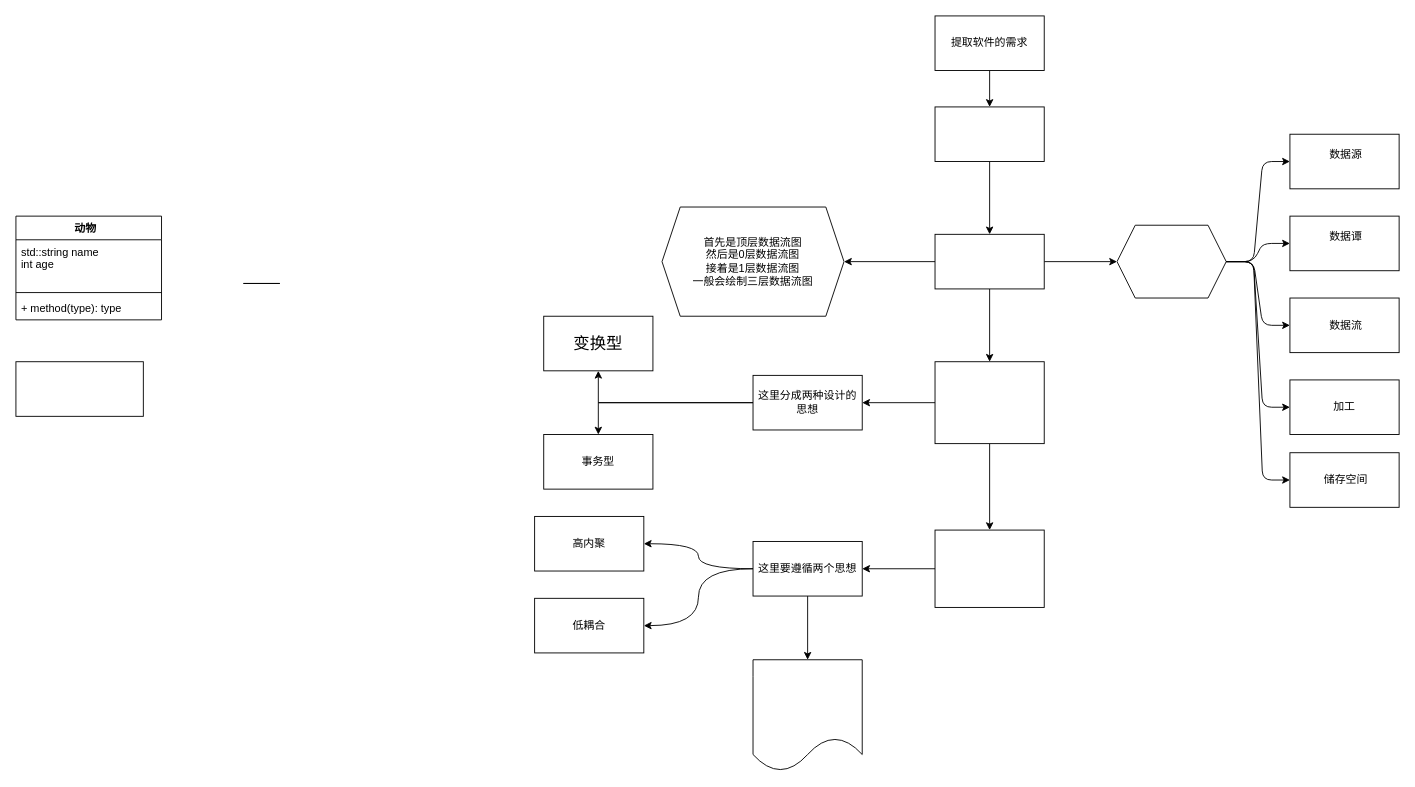
Image size: 1415x787. Some labels were removed from this diagram. The centre of each missing label's shape, as x and y in pixels:
"Class" belongs at (79,388).
"写出软件的需求规约" belongs at (989,134).
"刚才做的是结构化设计的第一步，接下来是最重要的一步，就是精简的图" belongs at (989,568).
"数据流图涉及到几个专业术语" belongs at (1171,261).
"要根据上面做好的结构化的需求文档， 画出结构化设计方法的流程图" belongs at (989,402).
"这两个思想的主要目的在于，加强模块内部的关联程度，降低模块之间的关联程度" belongs at (807,715).
"需求规约要画出软件的三层数据流图" belongs at (989,261).
